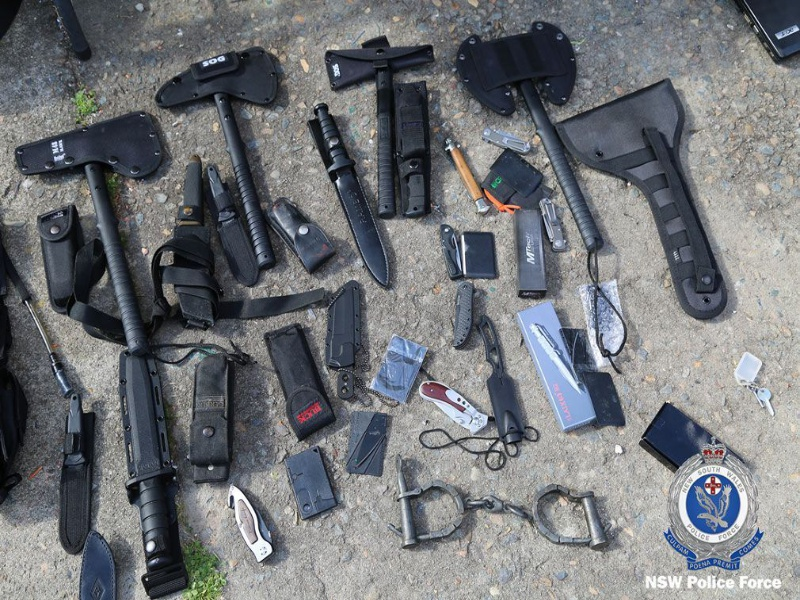gun: (454, 13, 626, 249), (155, 42, 289, 268), (104, 343, 195, 582), (300, 100, 405, 283)
